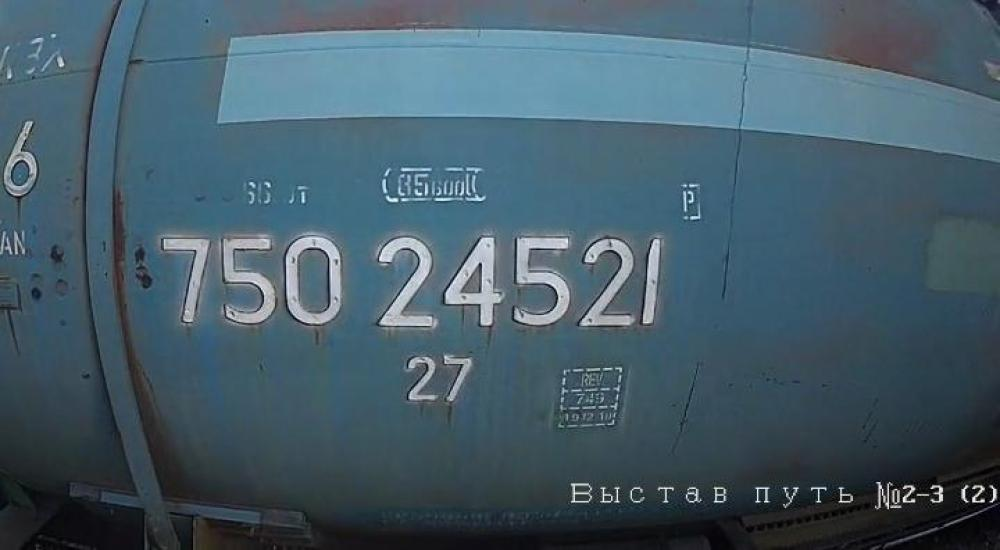Wagon-number: (154, 227, 666, 340)
